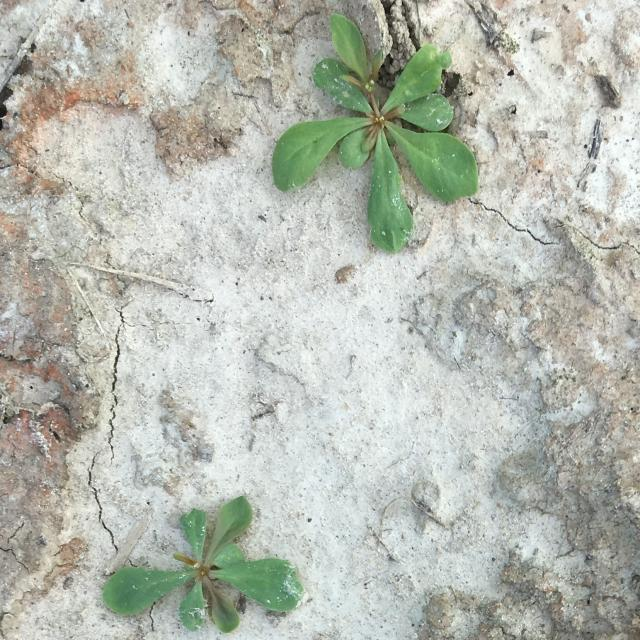Carpetweed: (272, 13, 480, 256), (102, 495, 308, 634)
